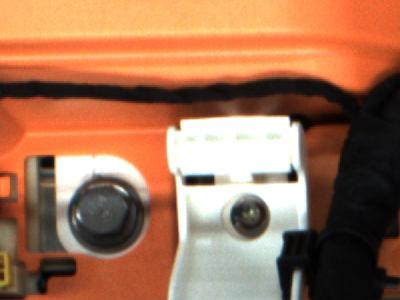nut_b: (65, 177, 151, 254)
